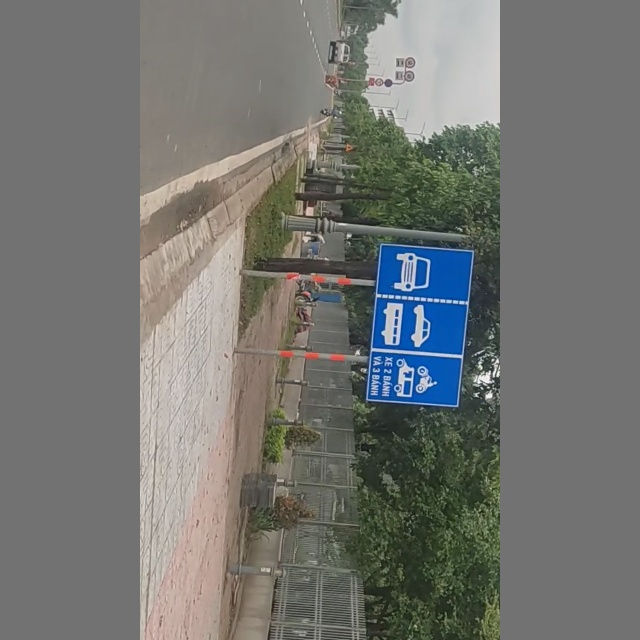R.415a: (361, 238, 474, 409)
